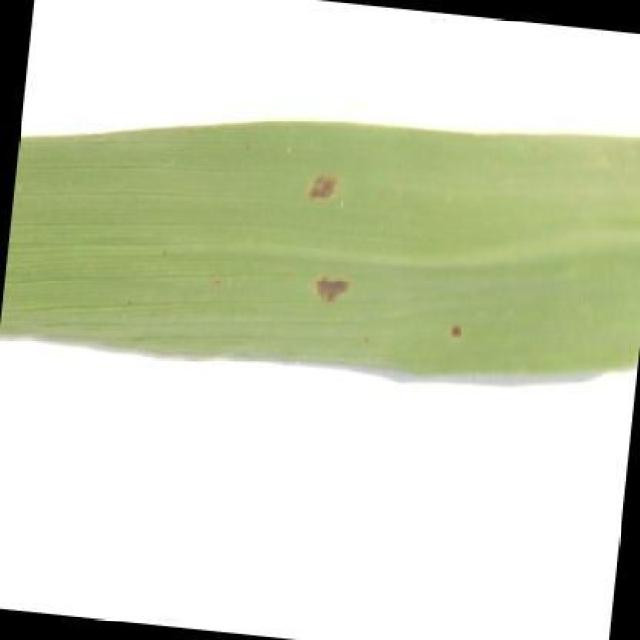Leaf_Blast: (292, 145, 358, 230), (302, 258, 360, 318), (438, 300, 472, 352), (117, 283, 143, 319), (360, 322, 375, 360)
